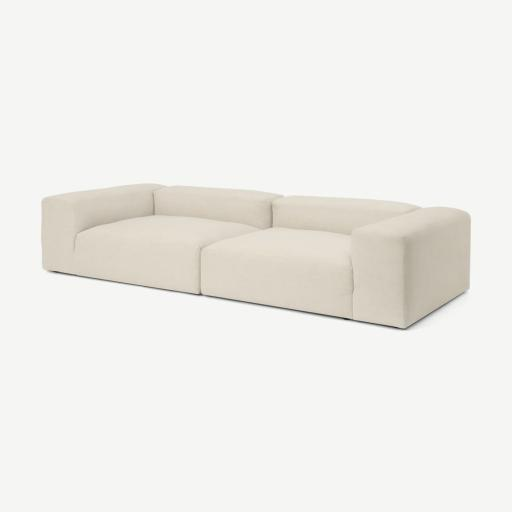back_cushion: (155, 186, 419, 234)
left_arm: (351, 207, 470, 328)
right_arm: (42, 184, 160, 274)
seat_cushion: (78, 215, 349, 315)
two-seater: (0, 0, 511, 512)
